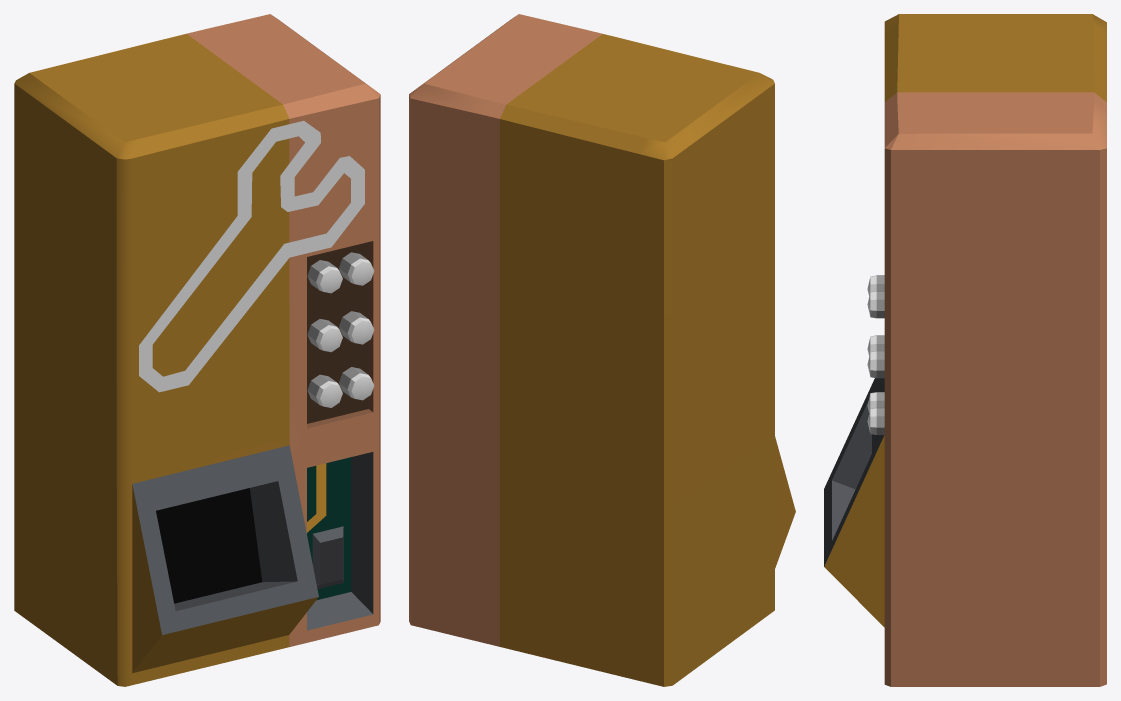
The model's file is YouTool.glb.
The picture shows the model from 3 angles, left to right: view 1: azimuth 30°, elevation 25°; view 2: azimuth 150°, elevation 25°; view 3: azimuth 270°, elevation 25°; orthographic projection.
Parts seen in each view (by area): view 1: YouTool; view 2: YouTool; view 3: YouTool.
Part boxes in pixels (x1,y1,x2,y2): YouTool: [14, 14, 380, 686]; YouTool: [409, 14, 795, 686]; YouTool: [824, 14, 1106, 686].
Size of the model in its own units: 0.8908 by 1.74 by 0.8134.
2 materials, 1 textured.
